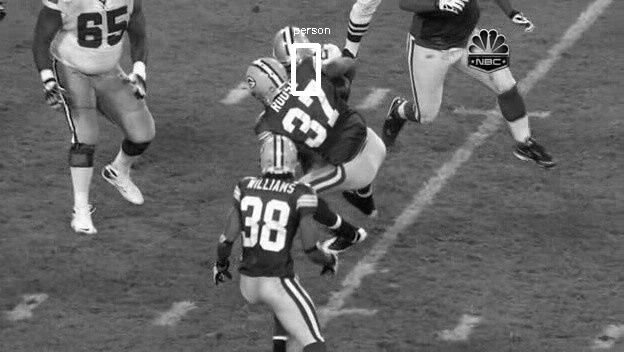person: (273, 31, 306, 73), (272, 31, 305, 73), (274, 31, 307, 73), (273, 30, 306, 72), (273, 32, 306, 74)
target_negative: (454, 77, 572, 319), (527, 111, 621, 265), (203, 126, 330, 230), (85, 211, 187, 330), (326, 7, 452, 73), (461, 273, 493, 329)
